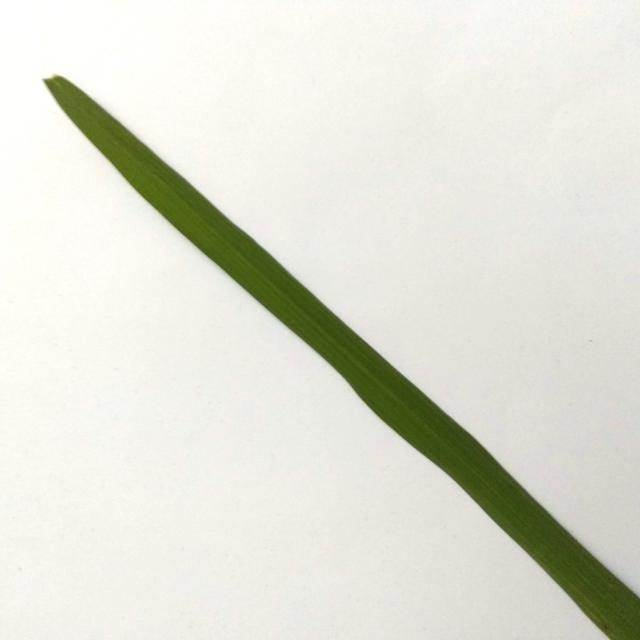Rice_Healthy: (45, 76, 640, 640)
